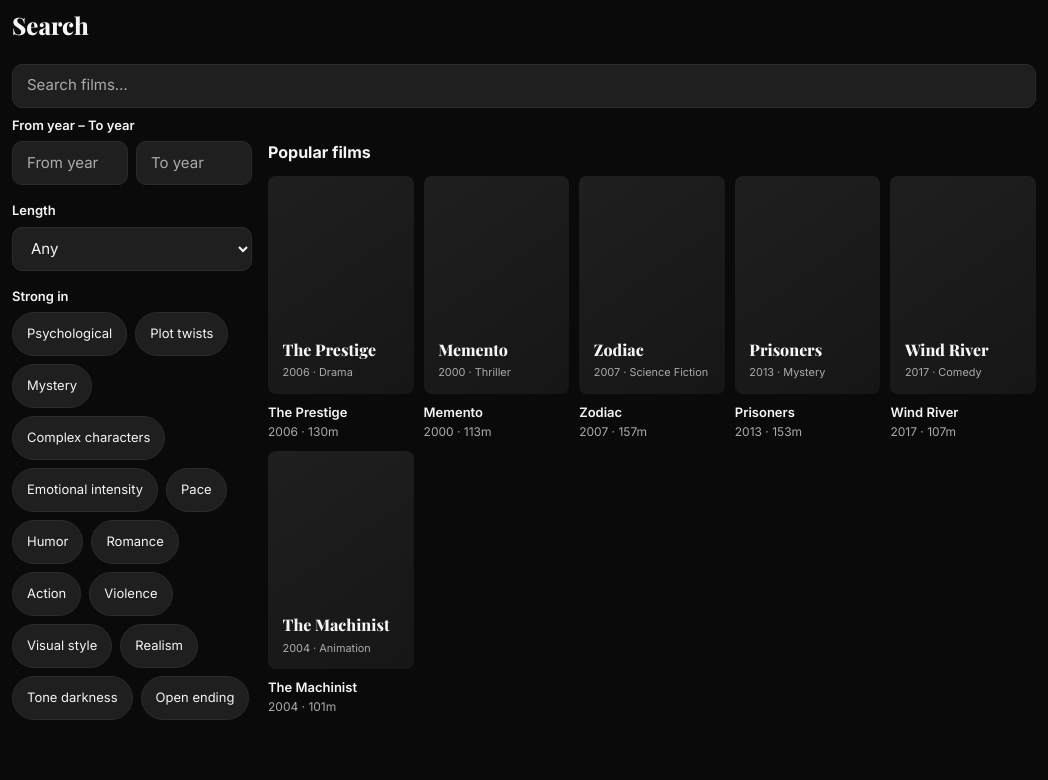
Test case: Search › renders its empty state with a way to clear the filters
Expected: the text "The Prestige" is shown, 268,404 -> 347,420
Click the button "Humor". click: (48, 542)
box: 12,520 -> 83,564
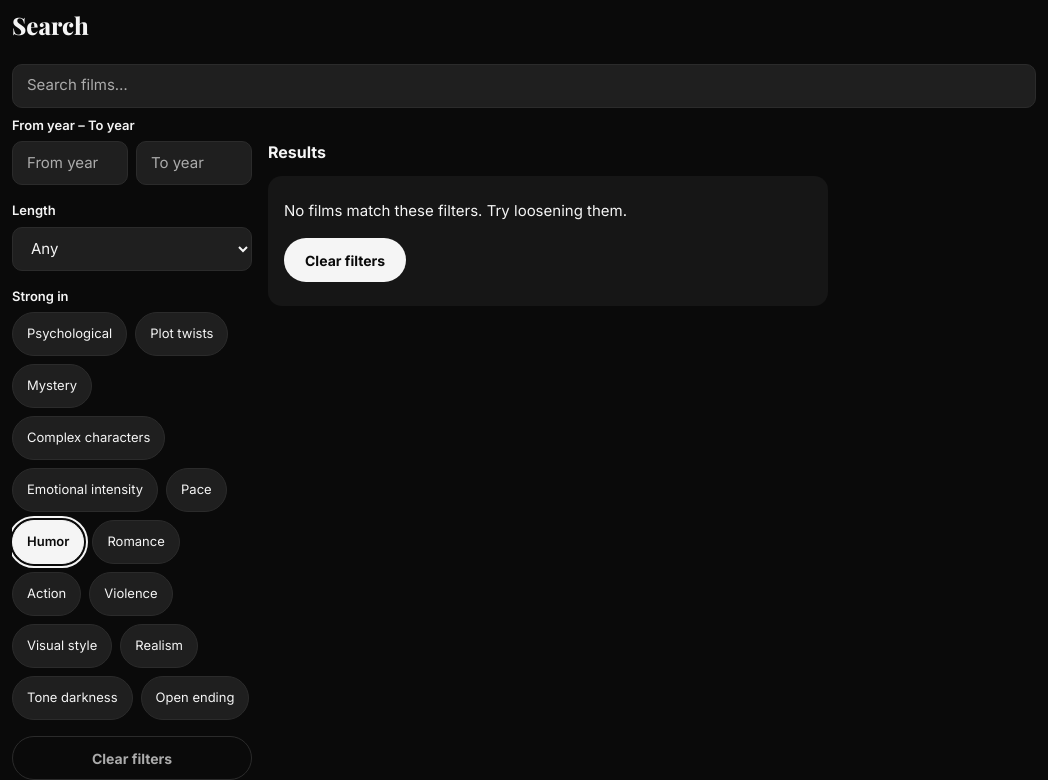
Expected: the text "No films match these filters. Try loosening them." is shown, 284,200 -> 627,222
Click the 2nd button "Clear filters". click: (132, 758)
box: 12,736 -> 252,779
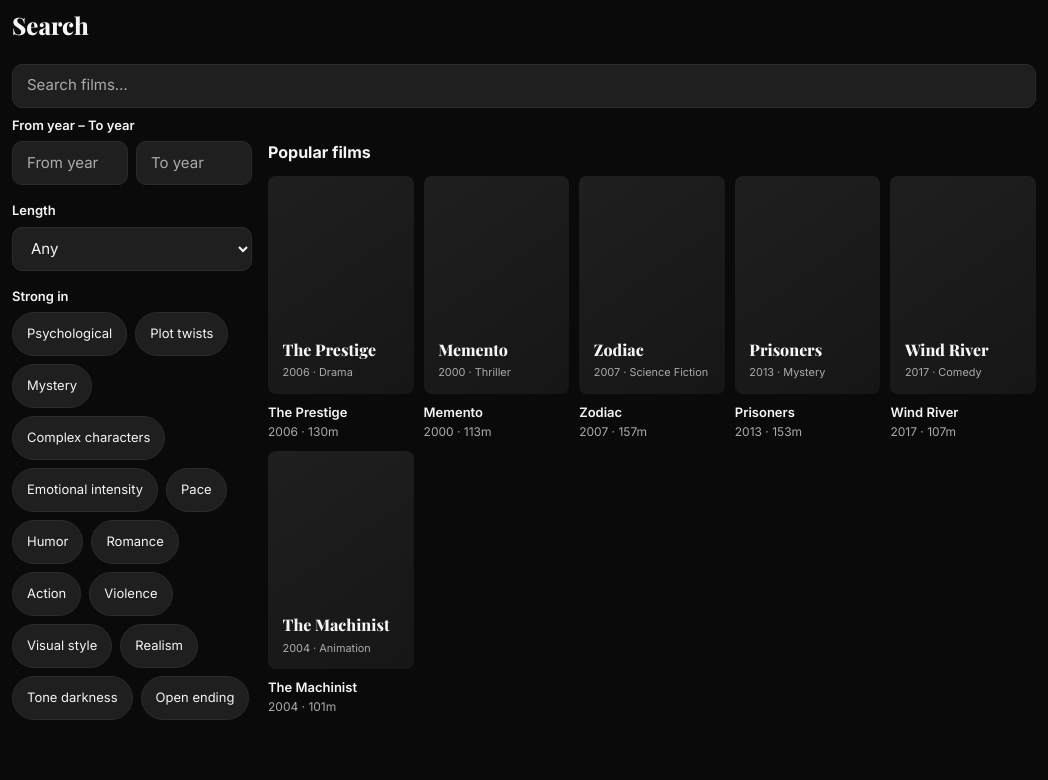
Expected: the heading "Popular films" is shown, 268,142 -> 371,162
